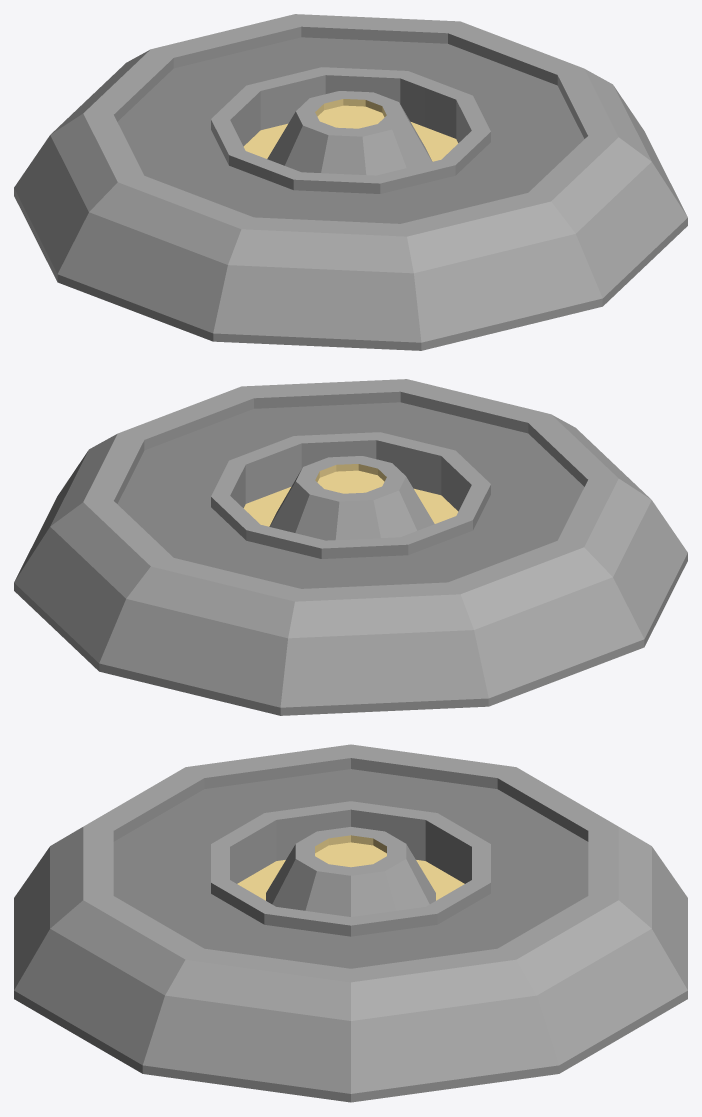
File: SciFi_Modular_Lighting_Aparatus_Bridge_Large_Grey_01.fbx
The picture shows the model from 3 angles, top to bottom: view 1: azimuth 30°, elevation 25°; view 2: azimuth 150°, elevation 25°; view 3: azimuth 270°, elevation 25°; orthographic projection. The views are drawn at different scales.
Parts seen in each view (by area): view 1: SciFi_Modular_Lighting_Aparatus_Bridge_Large_Grey_01; view 2: SciFi_Modular_Lighting_Aparatus_Bridge_Large_Grey_01; view 3: SciFi_Modular_Lighting_Aparatus_Bridge_Large_Grey_01.
Part boxes in pixels (bbox=[...]): SciFi_Modular_Lighting_Aparatus_Bridge_Large_Grey_01: bbox=[14, 14, 687, 350]; SciFi_Modular_Lighting_Aparatus_Bridge_Large_Grey_01: bbox=[14, 379, 687, 715]; SciFi_Modular_Lighting_Aparatus_Bridge_Large_Grey_01: bbox=[14, 744, 687, 1102].
Size of the model in its own units: 436 by 68.85 by 414.
